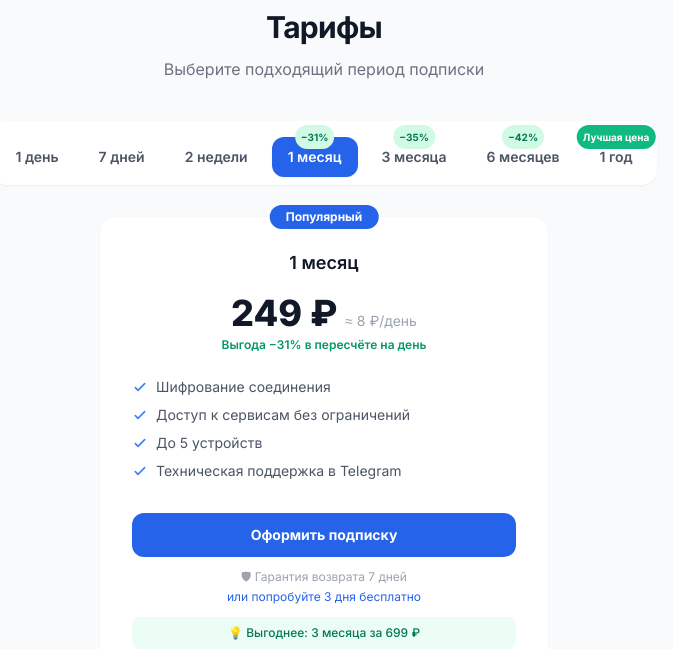
it: TariffsSection › selecting '1 год' shows the price and the 'Лучшая цена' badge
The image size is (673, 649).
Click the button "1 год Лучшая цена": point(616, 157) [584,137,649,177]
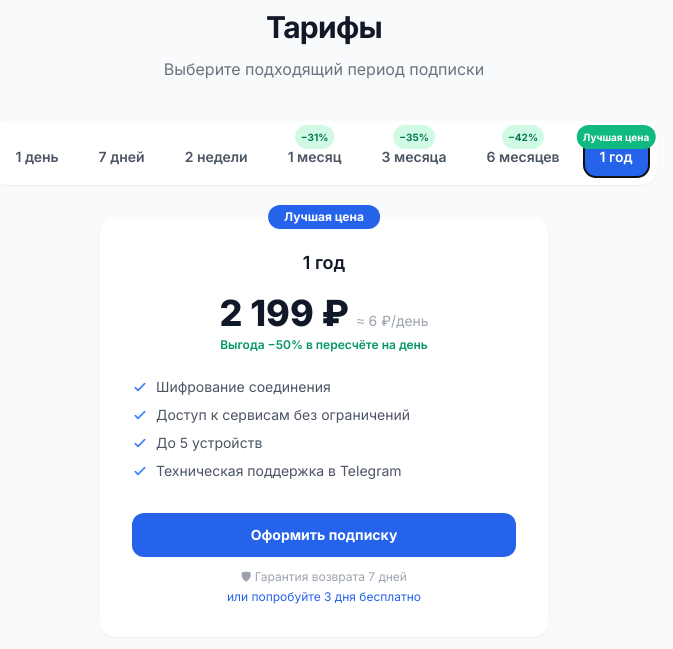
Expected: the 1st text "Лучшая цена" is shown, [577,125,655,149]
Expected: the text "2 199 ₽" is shown, [219,291,349,335]
